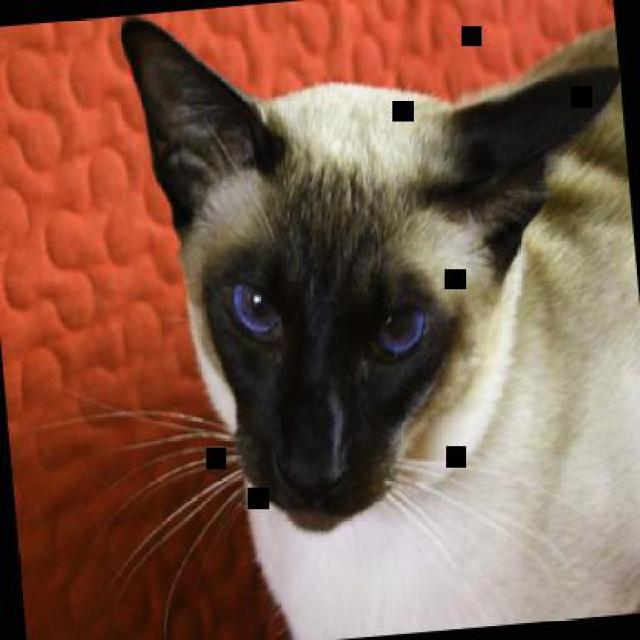cat: (113, 0, 638, 638)
